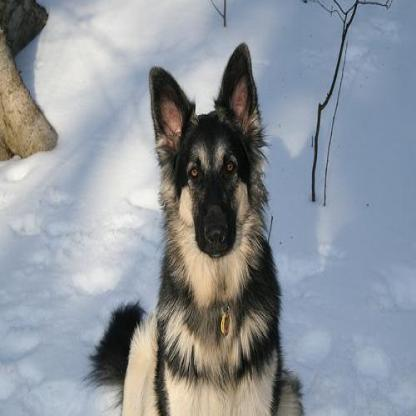German_shepherd: (88, 41, 304, 412)
